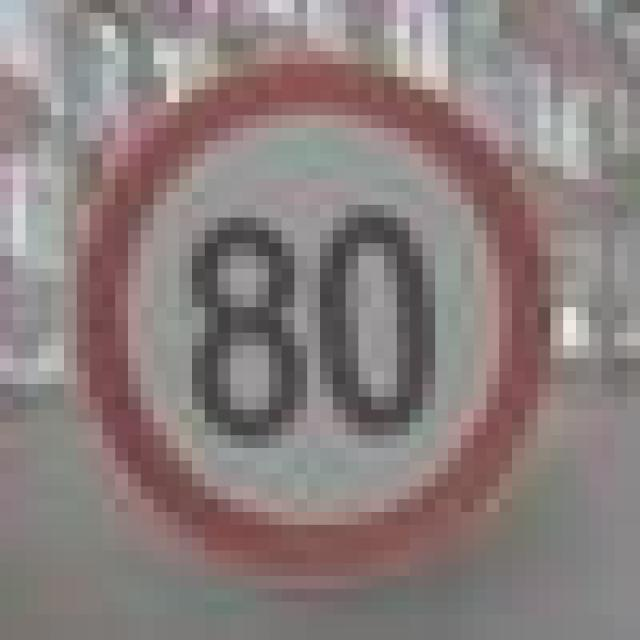speed_limit_50: (51, 39, 538, 564)
